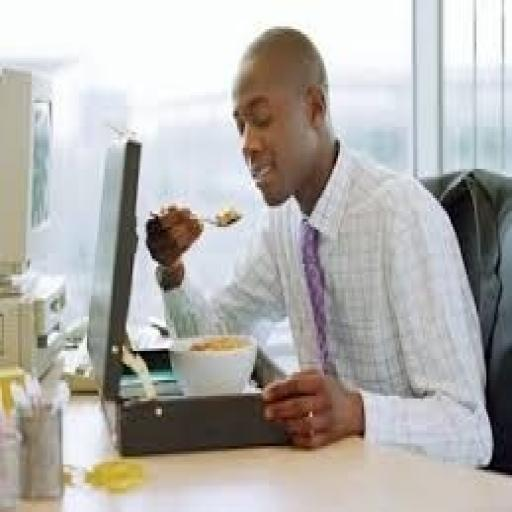eating: (144, 21, 496, 470)
